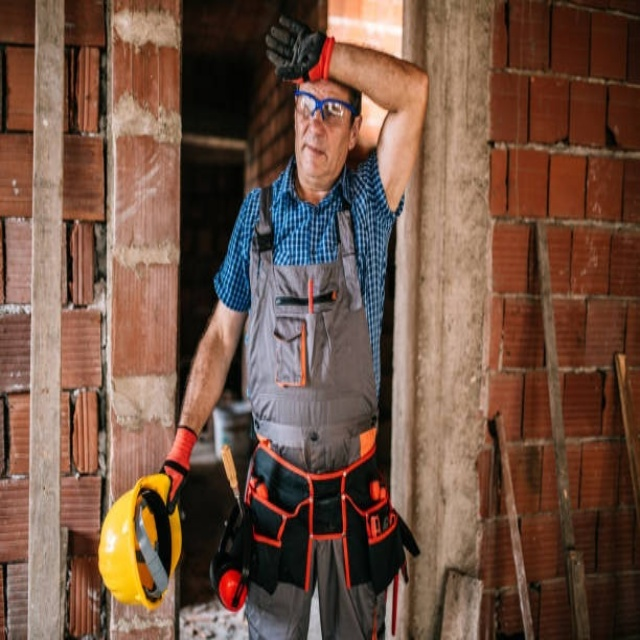Gafas: (292, 86, 355, 127)
Guantes: (264, 13, 331, 84), (155, 424, 196, 512)
Sin_mascara: (299, 136, 334, 174)
